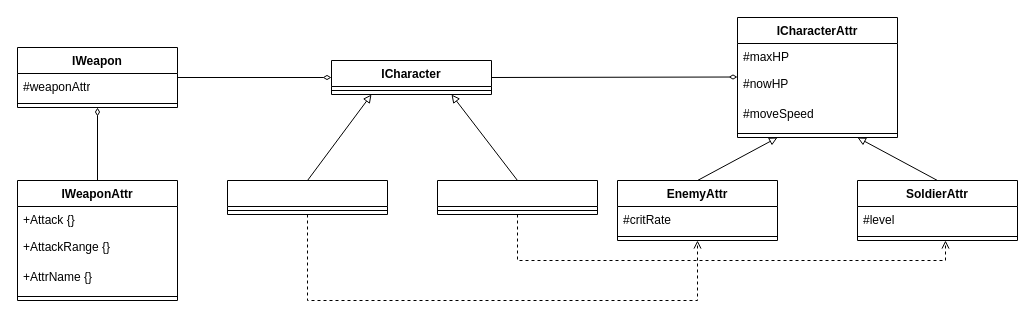
The diagram is 1035 pixels wide and 326 high, and some of its shapes have lost their labels. The centre of each missing label's shape, as x and y in pixels:
IEnemy: the point at 307,197
ISoldider: the point at 517,197
